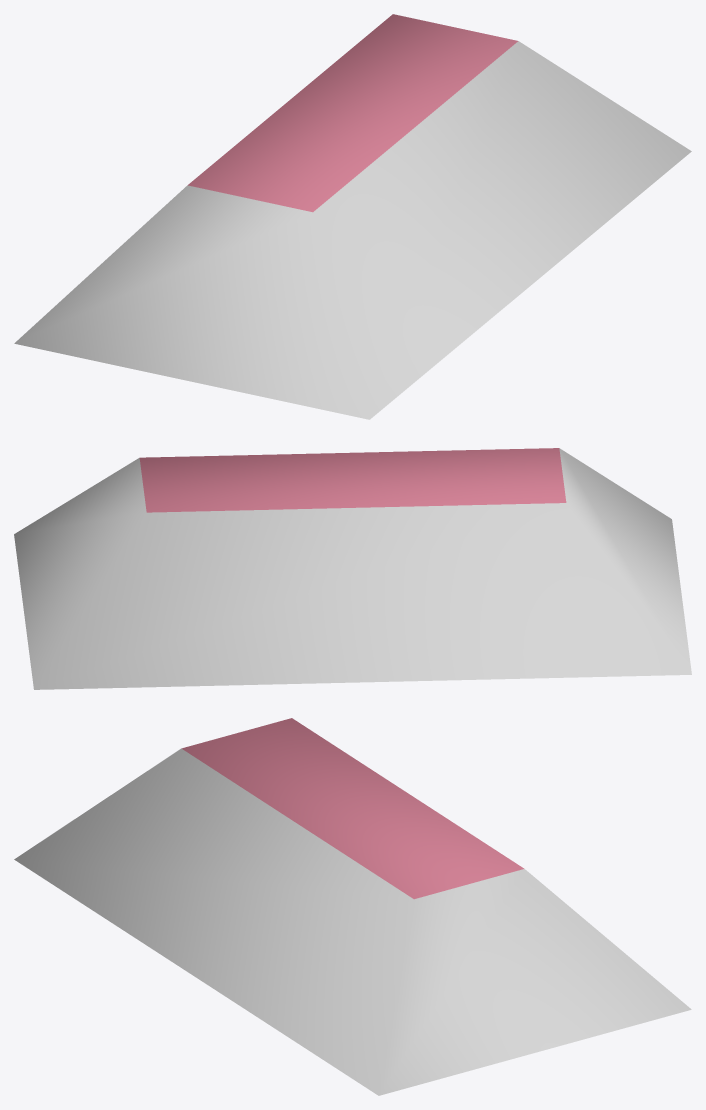
The model's file is klondike.fbx.
3 renders of one model, top to bottom at view 1: azimuth 30°, elevation 25°; view 2: azimuth 150°, elevation 25°; view 3: azimuth 270°, elevation 25°, orthographic. The views are drawn at different scales.
Visible parts, largest first — view 1: Klondike; view 2: Klondike; view 3: Klondike.
Part boxes in pixels (box(x1,y1,x2,y2)): Klondike: box(14, 14, 691, 419); Klondike: box(14, 448, 691, 689); Klondike: box(14, 718, 691, 1095).
Size of the model in its own units: 0.4149 by 0.0755 by 0.3684.
